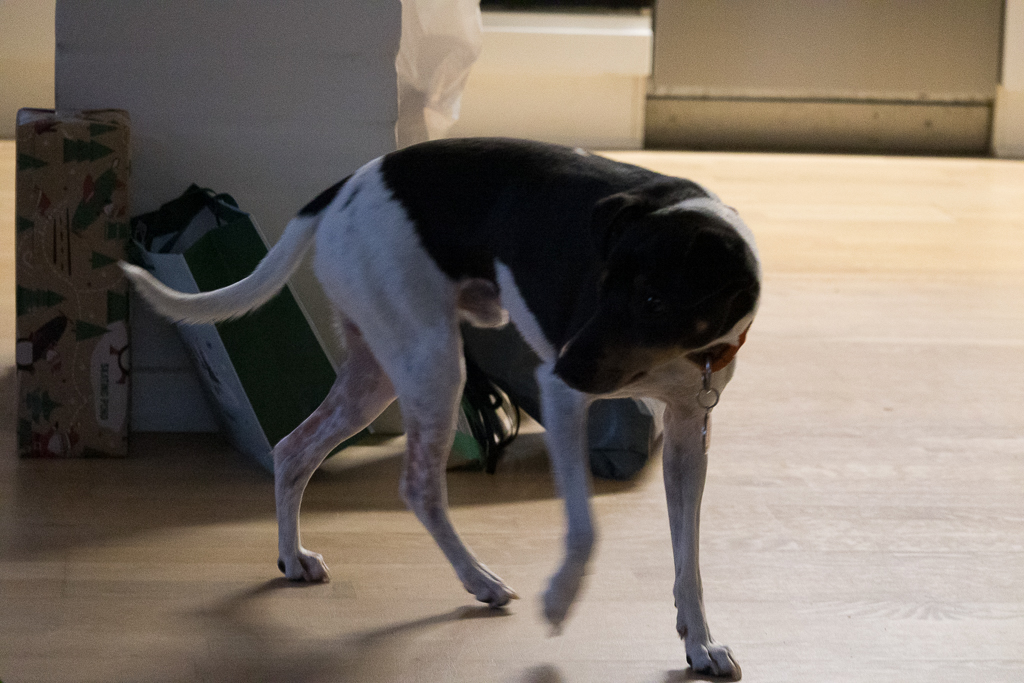Dog: (105, 127, 770, 683)
